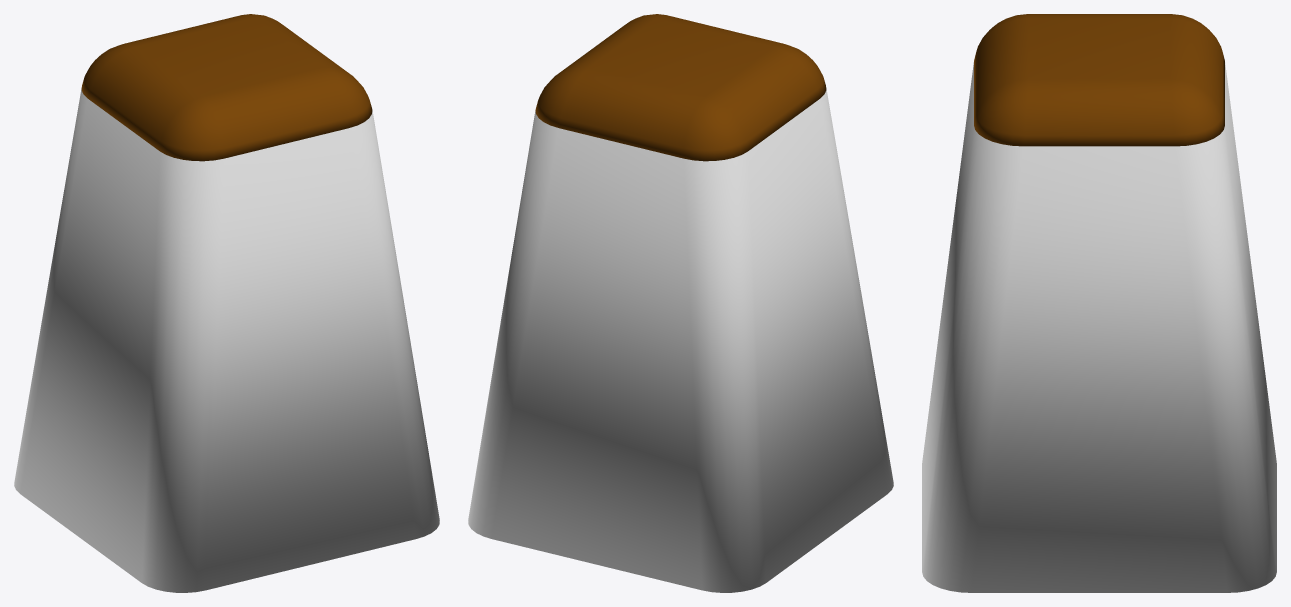
The model's file is lipsticklid.dae.
3 renders of one model, left to right at view 1: azimuth 30°, elevation 25°; view 2: azimuth 150°, elevation 25°; view 3: azimuth 270°, elevation 25°, orthographic. The views are drawn at different scales.
Visible parts, largest first — view 1: Cube_004, Cube_000; view 2: Cube_004, Cube_000; view 3: Cube_004, Cube_000.
Part boxes in pixels (x1,y1,x2,y2): Cube_004: (14,88,439,592); Cube_000: (81,14,372,161); Cube_004: (468,88,893,592); Cube_000: (535,14,826,161); Cube_004: (922,62,1276,592); Cube_000: (974,14,1224,146).
Bounding box in the file's own units: 0.1016 × 0.1016 × 0.1482.
